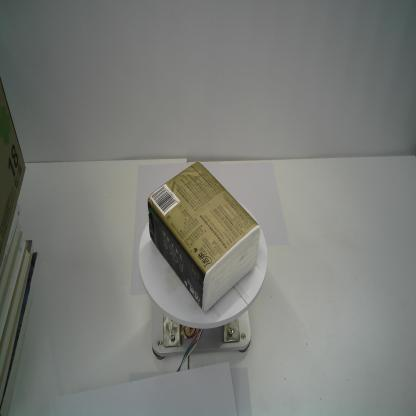Tissue: (147, 161, 261, 313)
